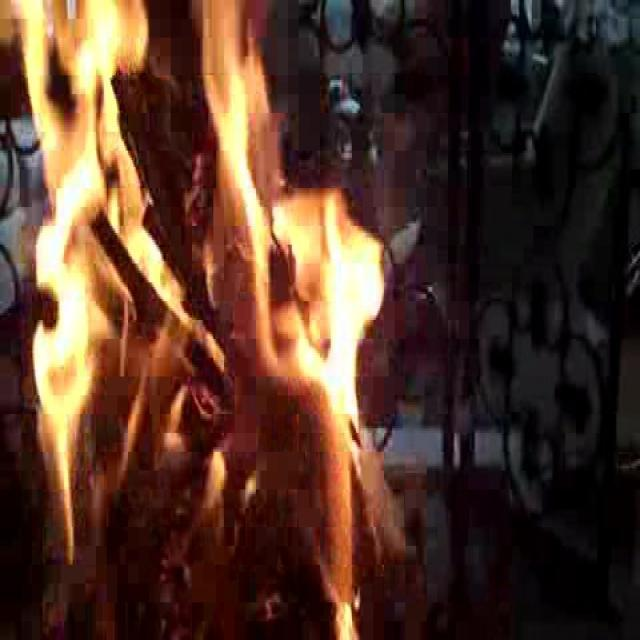Fire: (16, 4, 371, 611)
